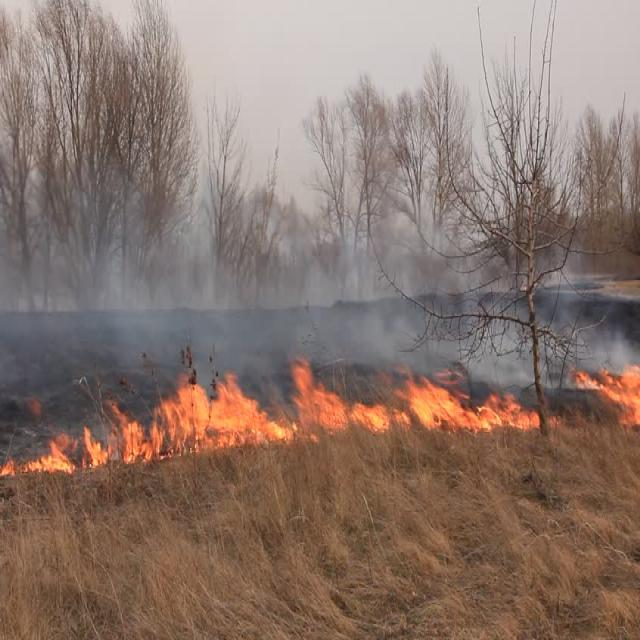Fire: (0, 336, 640, 477)
Smoke: (0, 169, 293, 403), (289, 220, 640, 386)
